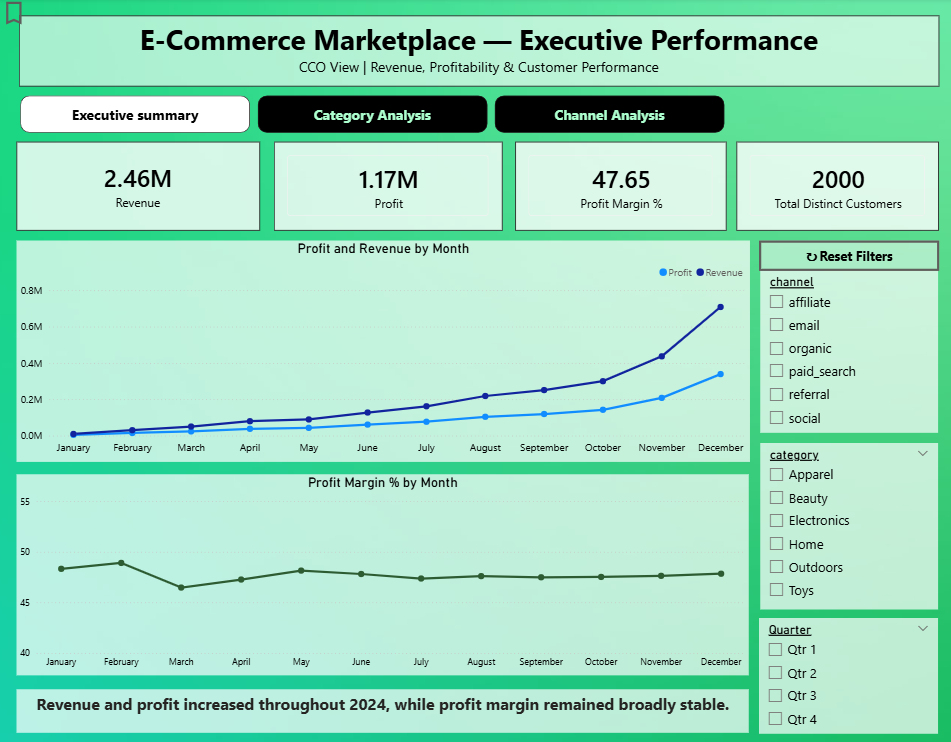

The page's visual inventory and layout, read from the dashboard file:
{"tool":"powerbi","page":{"name":"Executive summary","canvas":[1280,1000],"ordinal":0},"visuals":[{"type":"lineChart","fields":{"Category":["Orders.order_ts.Variation.Date Hierarchy.Month"],"Y":["Order Items.Profit","Order Items.Revenue"]},"box":[23.5,325.1,983.6,296.6],"z":0},{"type":"cardVisual","fields":{"Data":["Order Items.Revenue"]},"box":[23.5,192.7,326.7,119],"z":1000},{"type":"cardVisual","fields":{"Data":["Order Items.Profit"]},"box":[368.6,192.7,306.6,119],"z":2000},{"type":"cardVisual","fields":{"Data":["Order Items.Profit Margin %"]},"box":[692,192.7,283.2,119],"z":3000},{"type":"cardVisual","fields":{"Data":["CountNonNull(Customers.customer_id)"]},"box":[988.6,192.7,271.4,119],"z":4000},{"type":"lineChart","fields":{"Y":["Order Items.Profit Margin %"],"Category":["Orders.order_ts.Variation.Date Hierarchy.Month"]},"box":[23.5,638.4,981.9,269.8],"z":5000},{"type":"slicer","fields":{"Values":["Customers.channel"]},"box":[1021.3,366,238.3,217.9],"z":6000},{"type":"slicer","fields":{"Values":["Product.category"]},"box":[1021.3,595.7,238.3,223],"z":7000},{"type":"slicer","fields":{"Values":["Orders.order_ts.Variation.Date Hierarchy.Quarter"]},"box":[1019.6,830.6,240,154.9],"z":8000},{"type":"textbox","box":[26.8,23.5,1233.3,95.5],"z":9000},{"type":"pageNavigator","box":[28.5,130.7,946.7,50.3],"z":10000},{"type":"actionButton","box":[1019.6,325.1,241.7,40.9],"z":11000},{"type":"textbox","box":[23.5,926.6,981.9,58.6],"z":12000},{"type":"actionButton","box":[0,0,100,40],"z":12001}]}

Visuals, with their boxes in screenshot pixels (x1, y1, x2, y2), scaled from the page's 1280x1000 canvas onto the 951x742 screenshot:
lineChart - Orders.order_ts.Variation.Date Hierarchy.Month x Order Items.Profit: crop(17, 241, 748, 461)
cardVisual - Order Items.Revenue: crop(17, 143, 260, 231)
cardVisual - Order Items.Profit: crop(274, 143, 502, 231)
cardVisual - Order Items.Profit Margin %: crop(514, 143, 725, 231)
cardVisual - CountNonNull(Customers.customer_id): crop(734, 143, 936, 231)
lineChart - Order Items.Profit Margin % x Orders.order_ts.Variation.Date Hierarchy.Month: crop(17, 474, 747, 674)
slicer - Customers.channel: crop(759, 272, 936, 433)
slicer - Product.category: crop(759, 442, 936, 607)
slicer - Orders.order_ts.Variation.Date Hierarchy.Quarter: crop(758, 616, 936, 731)
textbox: crop(20, 17, 936, 88)
pageNavigator: crop(21, 97, 725, 134)
actionButton: crop(758, 241, 937, 272)
textbox: crop(17, 688, 747, 731)
actionButton: crop(0, 0, 74, 30)
